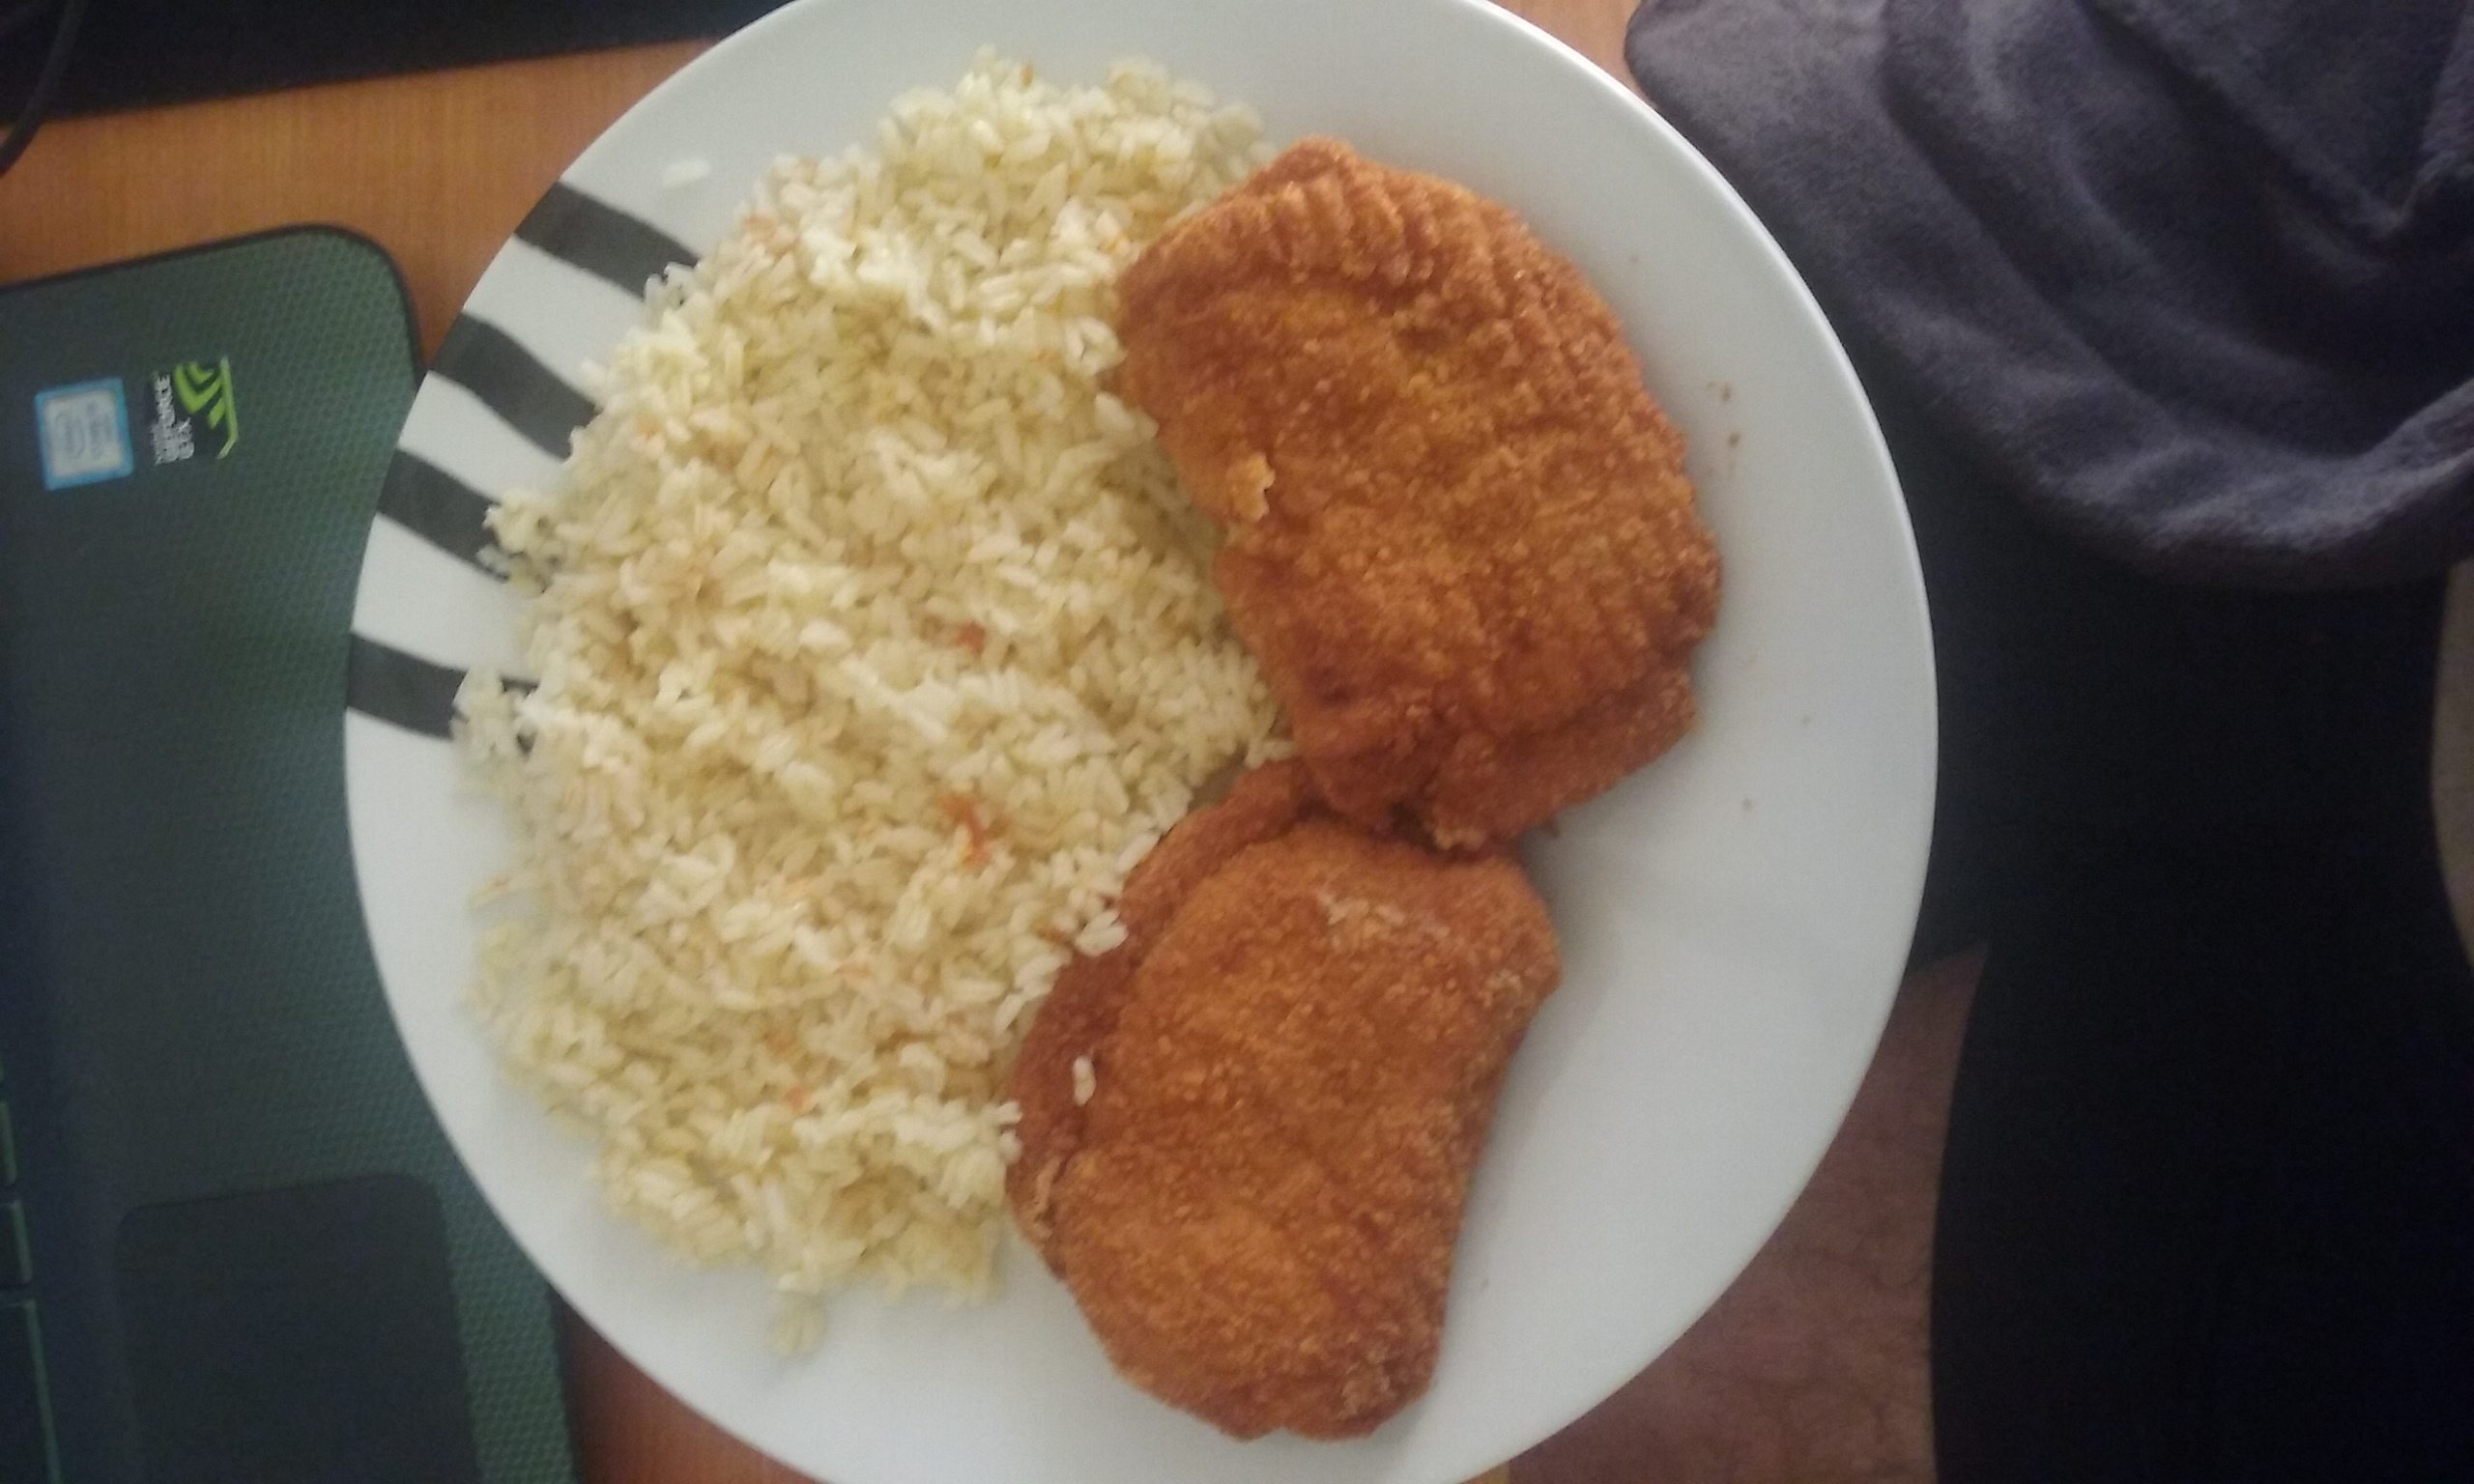81-100: (385, 4, 1930, 1429)
